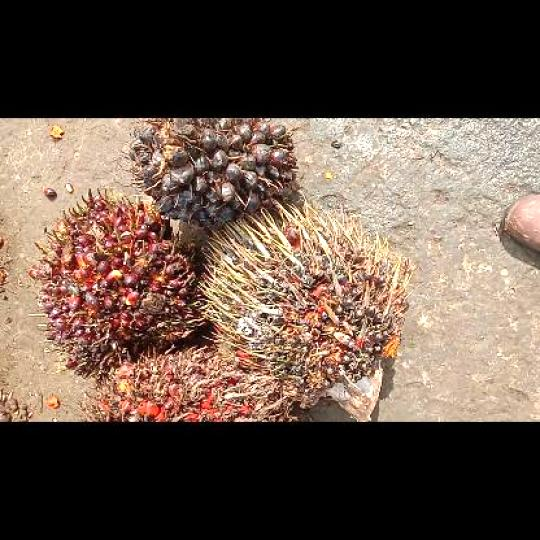masak: (31, 189, 203, 369)
terlalu masak: (79, 348, 295, 420)
